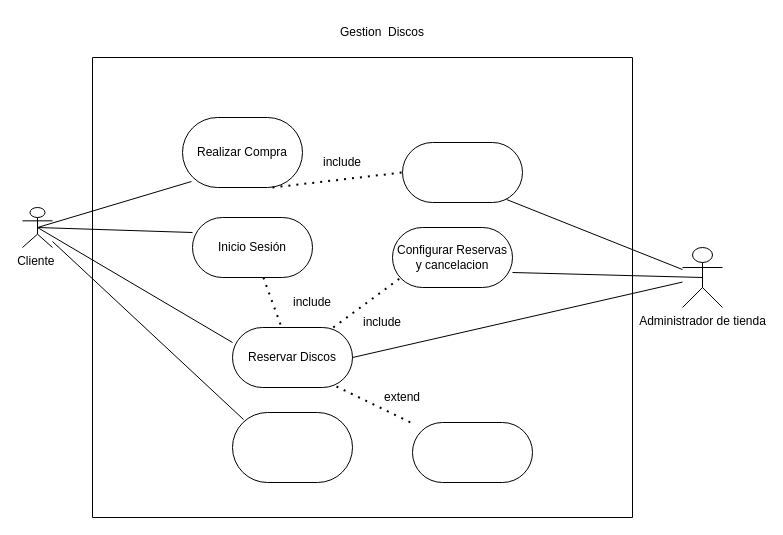
This 783x535 diagram has some shape labels left out. Each missing label, with the centre of its shape:
"Búsqueda de Discos" goes at [292,447].
"Editar datos" goes at [472,452].
"Generar Factura" goes at [462,172].
